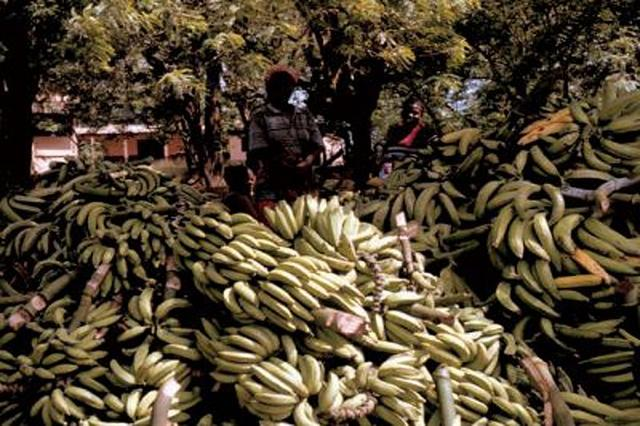banana: (294, 238, 358, 276), (584, 217, 640, 254), (248, 280, 294, 322), (533, 210, 562, 273), (260, 361, 308, 398), (508, 208, 543, 258), (302, 225, 349, 261), (577, 226, 626, 259), (570, 246, 612, 284), (251, 364, 297, 398), (560, 392, 621, 415), (581, 250, 638, 274), (530, 260, 562, 301), (523, 219, 551, 261), (120, 325, 156, 357), (435, 332, 473, 362), (314, 371, 339, 416), (416, 346, 462, 370), (516, 260, 544, 298), (597, 135, 639, 160), (552, 322, 604, 342), (372, 193, 396, 235), (576, 351, 635, 368), (414, 186, 439, 226), (154, 298, 192, 324), (384, 320, 422, 346), (591, 372, 635, 394), (227, 335, 269, 358), (299, 355, 322, 396), (531, 146, 561, 177), (543, 184, 565, 226), (380, 395, 416, 420), (22, 222, 50, 254), (385, 311, 425, 333), (597, 116, 640, 136), (147, 360, 180, 386), (282, 286, 320, 308), (208, 354, 251, 373), (438, 192, 462, 226), (562, 168, 616, 183), (380, 292, 426, 309), (413, 332, 452, 352), (42, 298, 74, 322), (72, 374, 110, 394), (238, 294, 266, 321), (586, 362, 632, 378), (267, 268, 303, 288), (585, 338, 635, 352), (547, 132, 580, 153), (458, 382, 492, 402), (458, 129, 483, 156), (464, 371, 493, 394), (280, 200, 299, 235), (377, 364, 421, 379), (458, 394, 489, 415), (238, 381, 280, 396), (371, 378, 406, 396), (276, 206, 294, 240), (51, 388, 72, 416), (312, 272, 341, 292), (58, 175, 90, 193), (350, 223, 377, 244), (138, 390, 158, 418), (126, 388, 142, 422), (396, 385, 426, 403), (56, 198, 86, 216), (244, 256, 270, 276), (10, 198, 40, 215), (134, 170, 157, 192), (492, 397, 518, 416), (472, 128, 498, 146), (342, 228, 356, 260), (539, 313, 555, 340), (318, 208, 330, 243), (37, 231, 51, 261), (536, 290, 558, 309), (254, 249, 278, 266), (202, 232, 226, 249), (106, 174, 128, 192), (90, 314, 122, 326), (380, 356, 418, 366), (474, 334, 503, 347), (48, 363, 79, 375), (64, 346, 92, 359), (296, 195, 306, 229), (378, 248, 404, 261), (352, 334, 376, 348), (229, 262, 259, 273), (329, 213, 338, 248), (328, 391, 343, 412), (130, 200, 156, 212), (536, 133, 558, 147), (76, 240, 98, 254), (24, 189, 58, 198), (212, 253, 236, 265), (116, 255, 128, 279), (96, 214, 112, 232), (426, 199, 435, 228), (126, 249, 141, 266), (154, 223, 171, 238), (116, 240, 129, 259), (95, 228, 116, 238), (344, 268, 357, 284), (230, 228, 256, 236), (520, 124, 538, 134), (461, 306, 476, 318), (131, 224, 142, 240), (152, 195, 168, 205), (152, 215, 168, 223), (426, 294, 434, 308), (68, 330, 78, 340), (78, 406, 86, 414), (166, 198, 178, 201)
